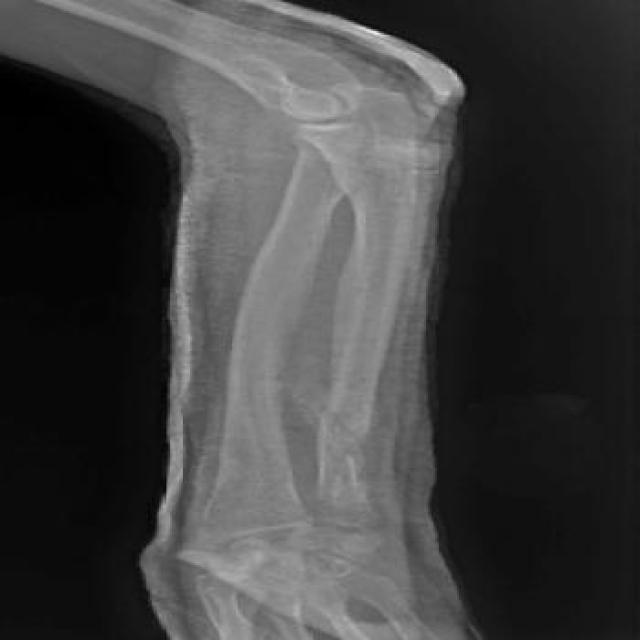Fracture: (306, 401, 403, 473)
